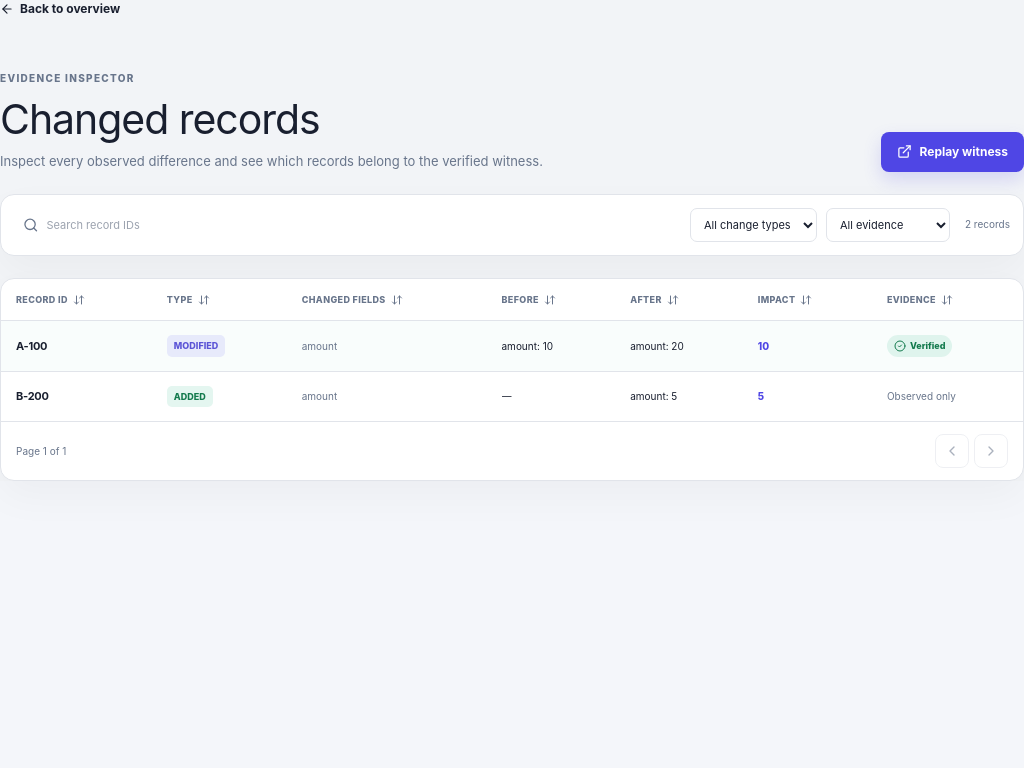
changes inspector › filters records and opens before/after evidence
Expected: the text "A-100" is shown, [16,339,47,353]
Expected: the text "Verified" is shown, [887,335,952,357]
Type "B-200" into the field labelled "Search record IDs" at (359,225), box [46,208,672,242]
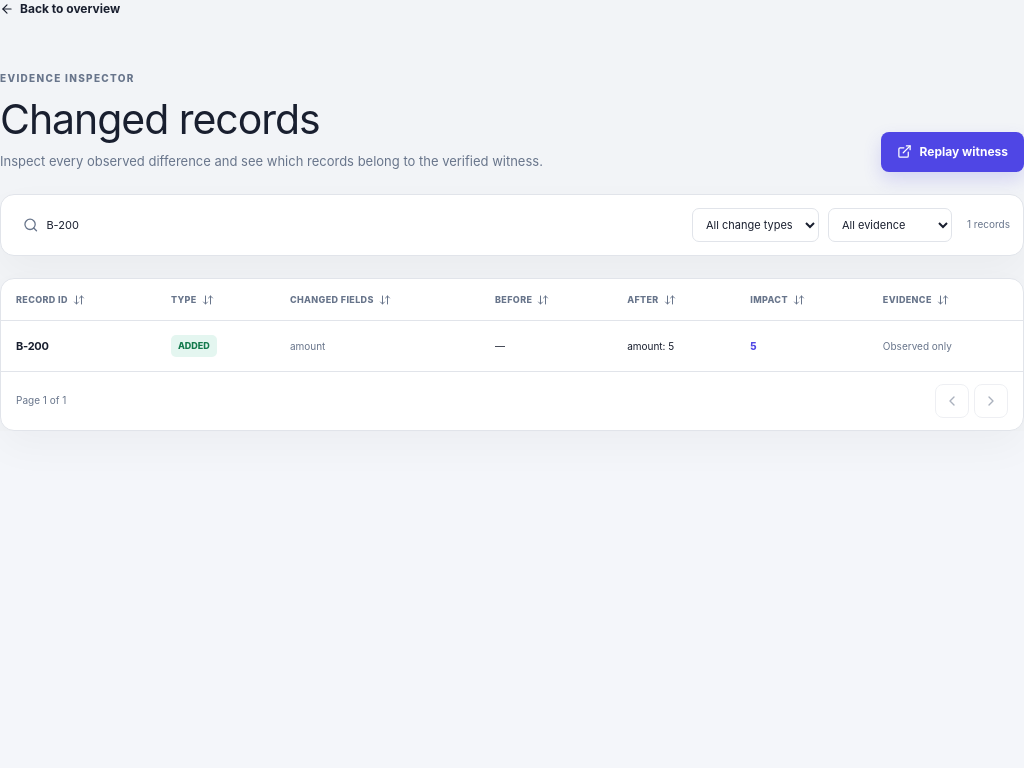
Now the text "A-100" is gone
Now the text "B-200" is shown, box [16,339,49,353]
Clear the field named "Search record IDs" at (360,225), box [46,208,674,242]
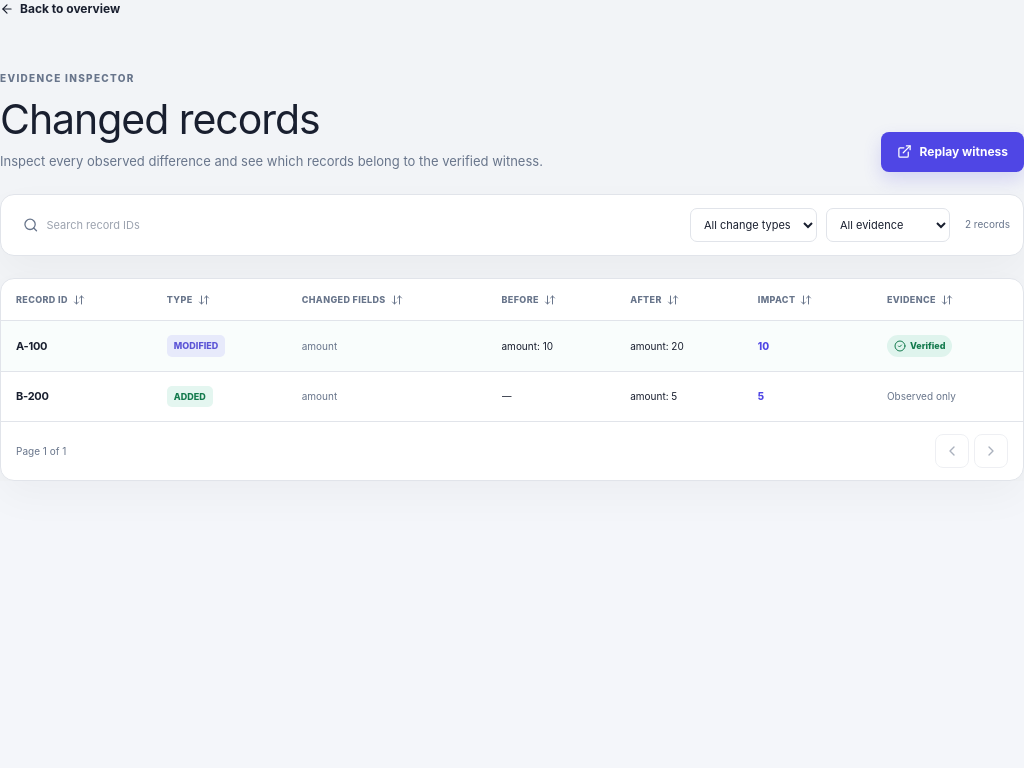
Click the text "A-100" at (32,346), box [16,339,47,353]
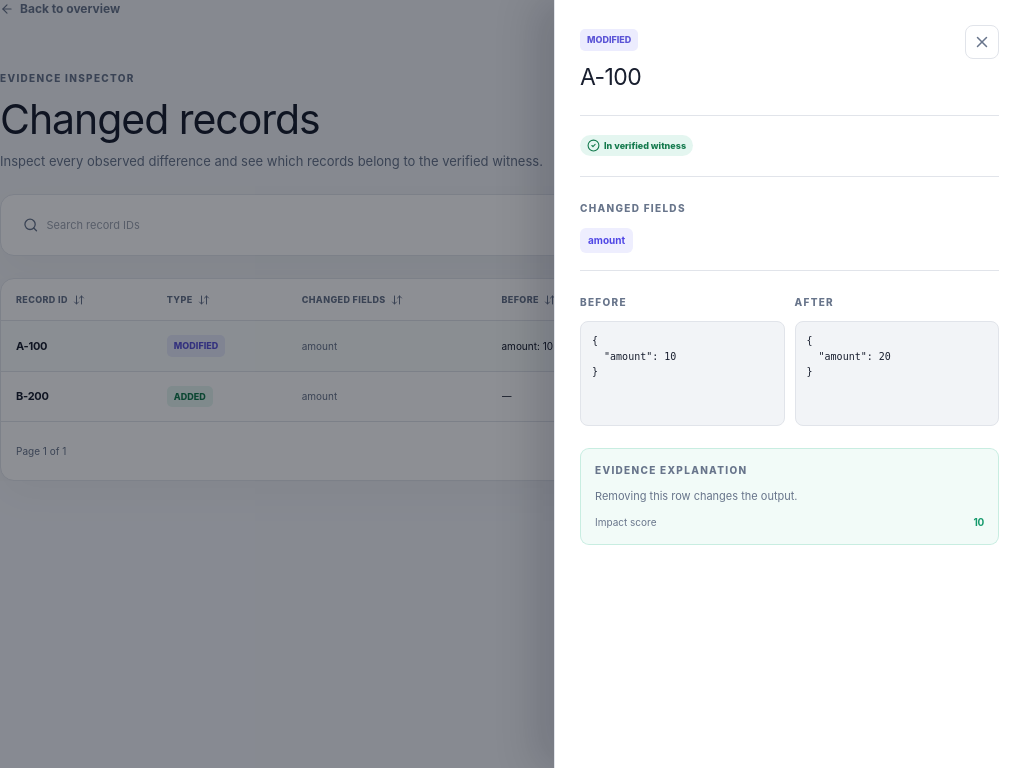
Now the heading "A-100" is shown, box [580,60,641,94]
Now the text "Removing this row changes the output." is shown, box [595,489,798,503]
